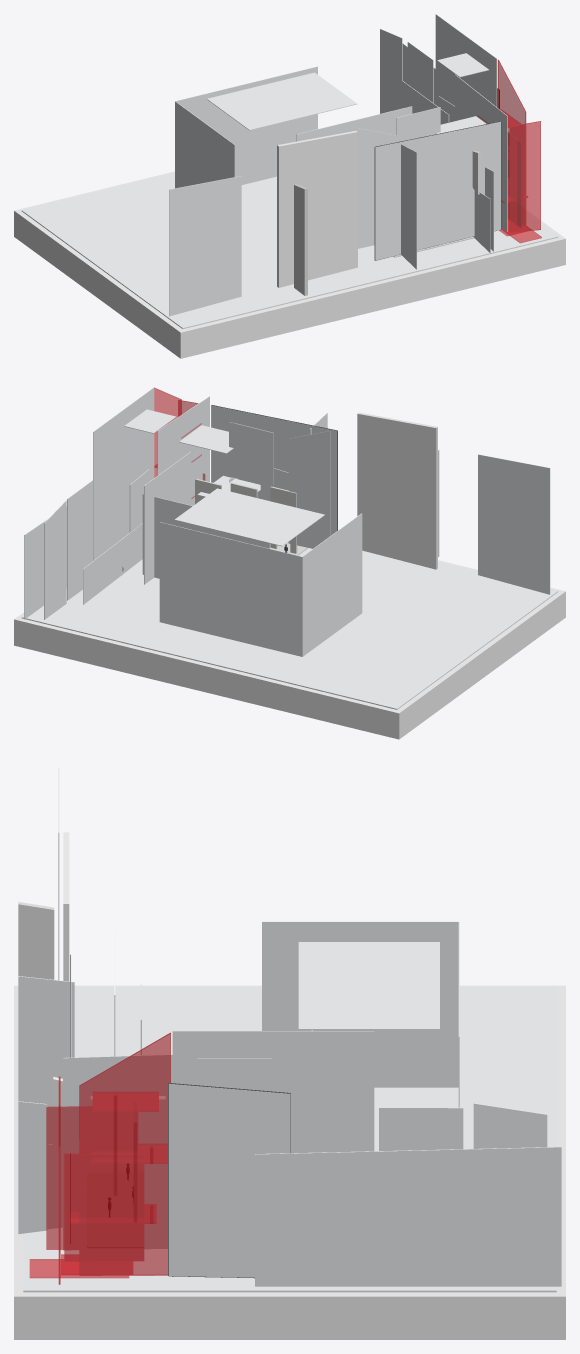
File: SITE00_Build_Object_V2_ExecutionTest_Web.glb
The picture shows the model from 3 angles, top to bottom: view 1: azimuth 30°, elevation 25°; view 2: azimuth 150°, elevation 25°; view 3: azimuth 270°, elevation 25°; orthographic projection. The views are drawn at different scales.
Parts seen in each view (by area): view 1: FOUNDATION_CLEAR_TOP_PLATE, FOUNDATION_MARBLE_CONTINUOUS, GLASS_PRIMARY_01, INTERIOR_DARK_MARBLE_BLADE, GLASS_SECONDARY_01, GLASS_INFERRED_REAR_CHAMBER_REAR, GLASS_INFERRED_REAR_ROOF, GLASS_INFERRED_REAR_CHAMBER_LEFT, RED_CORE_SECONDARY, GLASS_PRIMARY_03, GLASS_PARTITION_02, GLASS_PRIMARY_REAR (+12 smaller); view 2: FOUNDATION_CLEAR_TOP_PLATE, FOUNDATION_MARBLE_CONTINUOUS, GLASS_INFERRED_REAR_CHAMBER_REAR, INTERIOR_DARK_MARBLE_BLADE, GLASS_SECONDARY_01, GLASS_PRIMARY_03, GLASS_INFERRED_REAR_CHAMBER_LEFT, GLASS_INFERRED_REAR_ROOF, GLASS_PARTITION_02, GLASS_PRIMARY_01, GLASS_PRIMARY_REAR, GLASS_INFERRED_REAR_02 (+12 smaller); view 3: GLASS_SECONDARY_02, FOUNDATION_MARBLE_CONTINUOUS, FOUNDATION_CLEAR_TOP_PLATE, RED_CORE_PRIMARY, GLASS_PRIMARY_02, GLASS_PRIMARY_03, GLASS_INFERRED_REAR_CHAMBER_LEFT, GLASS_INFERRED_REAR_ROOF, GLASS_PRIMARY_REAR, RED_CORE_INTERIOR_02, RED_CORE_INTERIOR_01, GLASS_PARTITION_01 (+10 smaller).
Boxes of the visible parts, left/top/right/bottom form: FOUNDATION_CLEAR_TOP_PLATE: left=21, top=173, right=558, bottom=328; FOUNDATION_MARBLE_CONTINUOUS: left=14, top=171, right=565, bottom=358; GLASS_PRIMARY_01: left=375, top=121, right=500, bottom=260; INTERIOR_DARK_MARBLE_BLADE: left=277, top=131, right=357, bottom=287; GLASS_SECONDARY_01: left=169, top=176, right=241, bottom=316; GLASS_INFERRED_REAR_CHAMBER_REAR: left=175, top=66, right=317, bottom=184; GLASS_INFERRED_REAR_ROOF: left=207, top=72, right=356, bottom=130; GLASS_INFERRED_REAR_CHAMBER_LEFT: left=175, top=101, right=234, bottom=188; RED_CORE_SECONDARY: left=510, top=121, right=540, bottom=232; GLASS_PRIMARY_03: left=435, top=14, right=496, bottom=106; GLASS_PARTITION_02: left=355, top=127, right=396, bottom=248; GLASS_PRIMARY_REAR: left=455, top=74, right=507, bottom=231; FOUNDATION_CLEAR_TOP_PLATE: left=21, top=542, right=558, bottom=709; FOUNDATION_MARBLE_CONTINUOUS: left=14, top=560, right=565, bottom=739; GLASS_INFERRED_REAR_CHAMBER_REAR: left=159, top=522, right=302, bottom=656; INTERIOR_DARK_MARBLE_BLADE: left=357, top=412, right=437, bottom=569; GLASS_SECONDARY_01: left=478, top=454, right=550, bottom=594; GLASS_PRIMARY_03: left=93, top=387, right=154, bottom=560; GLASS_INFERRED_REAR_CHAMBER_LEFT: left=302, top=513, right=362, bottom=656; GLASS_INFERRED_REAR_ROOF: left=174, top=488, right=324, bottom=546; GLASS_PARTITION_02: left=288, top=431, right=330, bottom=548; GLASS_PRIMARY_01: left=211, top=405, right=337, bottom=535; GLASS_PRIMARY_REAR: left=157, top=396, right=209, bottom=505; GLASS_INFERRED_REAR_02: left=144, top=451, right=191, bottom=584; GLASS_SECONDARY_02: left=255, top=1147, right=561, bottom=1286; FOUNDATION_MARBLE_CONTINUOUS: left=14, top=985, right=565, bottom=1339; FOUNDATION_CLEAR_TOP_PLATE: left=23, top=987, right=556, bottom=1292; RED_CORE_PRIMARY: left=80, top=1033, right=170, bottom=1275; GLASS_PRIMARY_02: left=168, top=1083, right=290, bottom=1277; GLASS_PRIMARY_03: left=172, top=1031, right=374, bottom=1153; GLASS_INFERRED_REAR_CHAMBER_LEFT: left=262, top=921, right=458, bottom=1087; GLASS_INFERRED_REAR_ROOF: left=298, top=942, right=439, bottom=1029; GLASS_PRIMARY_REAR: left=63, top=1054, right=172, bottom=1250; RED_CORE_INTERIOR_02: left=64, top=1153, right=143, bottom=1261; RED_CORE_INTERIOR_01: left=46, top=1106, right=137, bottom=1249; GLASS_PARTITION_01: left=18, top=976, right=74, bottom=1144.
Bounding box in the file's own units: 10 × 4.37 × 7.5.
